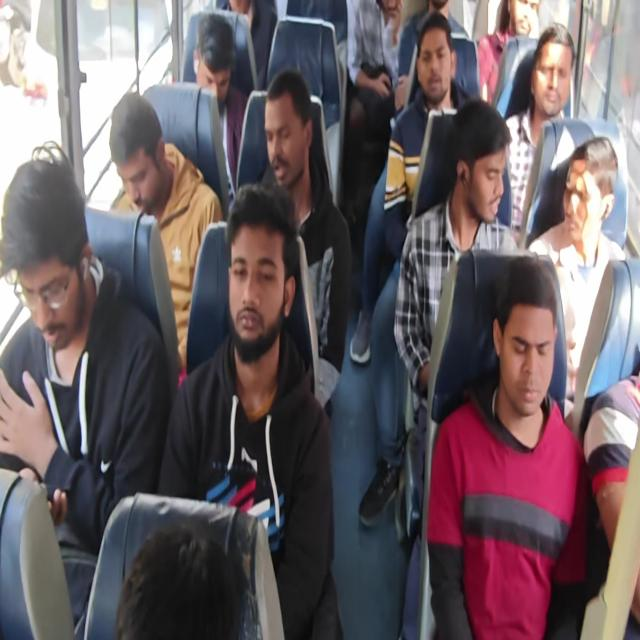person: (1, 1, 638, 638), (157, 181, 343, 638), (1, 141, 170, 637), (426, 255, 589, 638), (393, 97, 521, 524), (109, 90, 224, 380), (260, 68, 352, 416), (528, 134, 626, 402), (383, 12, 471, 260), (497, 22, 576, 240), (114, 524, 243, 639), (583, 364, 639, 626), (192, 14, 248, 200), (347, 0, 408, 134), (478, 0, 540, 106), (397, 0, 469, 79), (220, 0, 278, 93)
